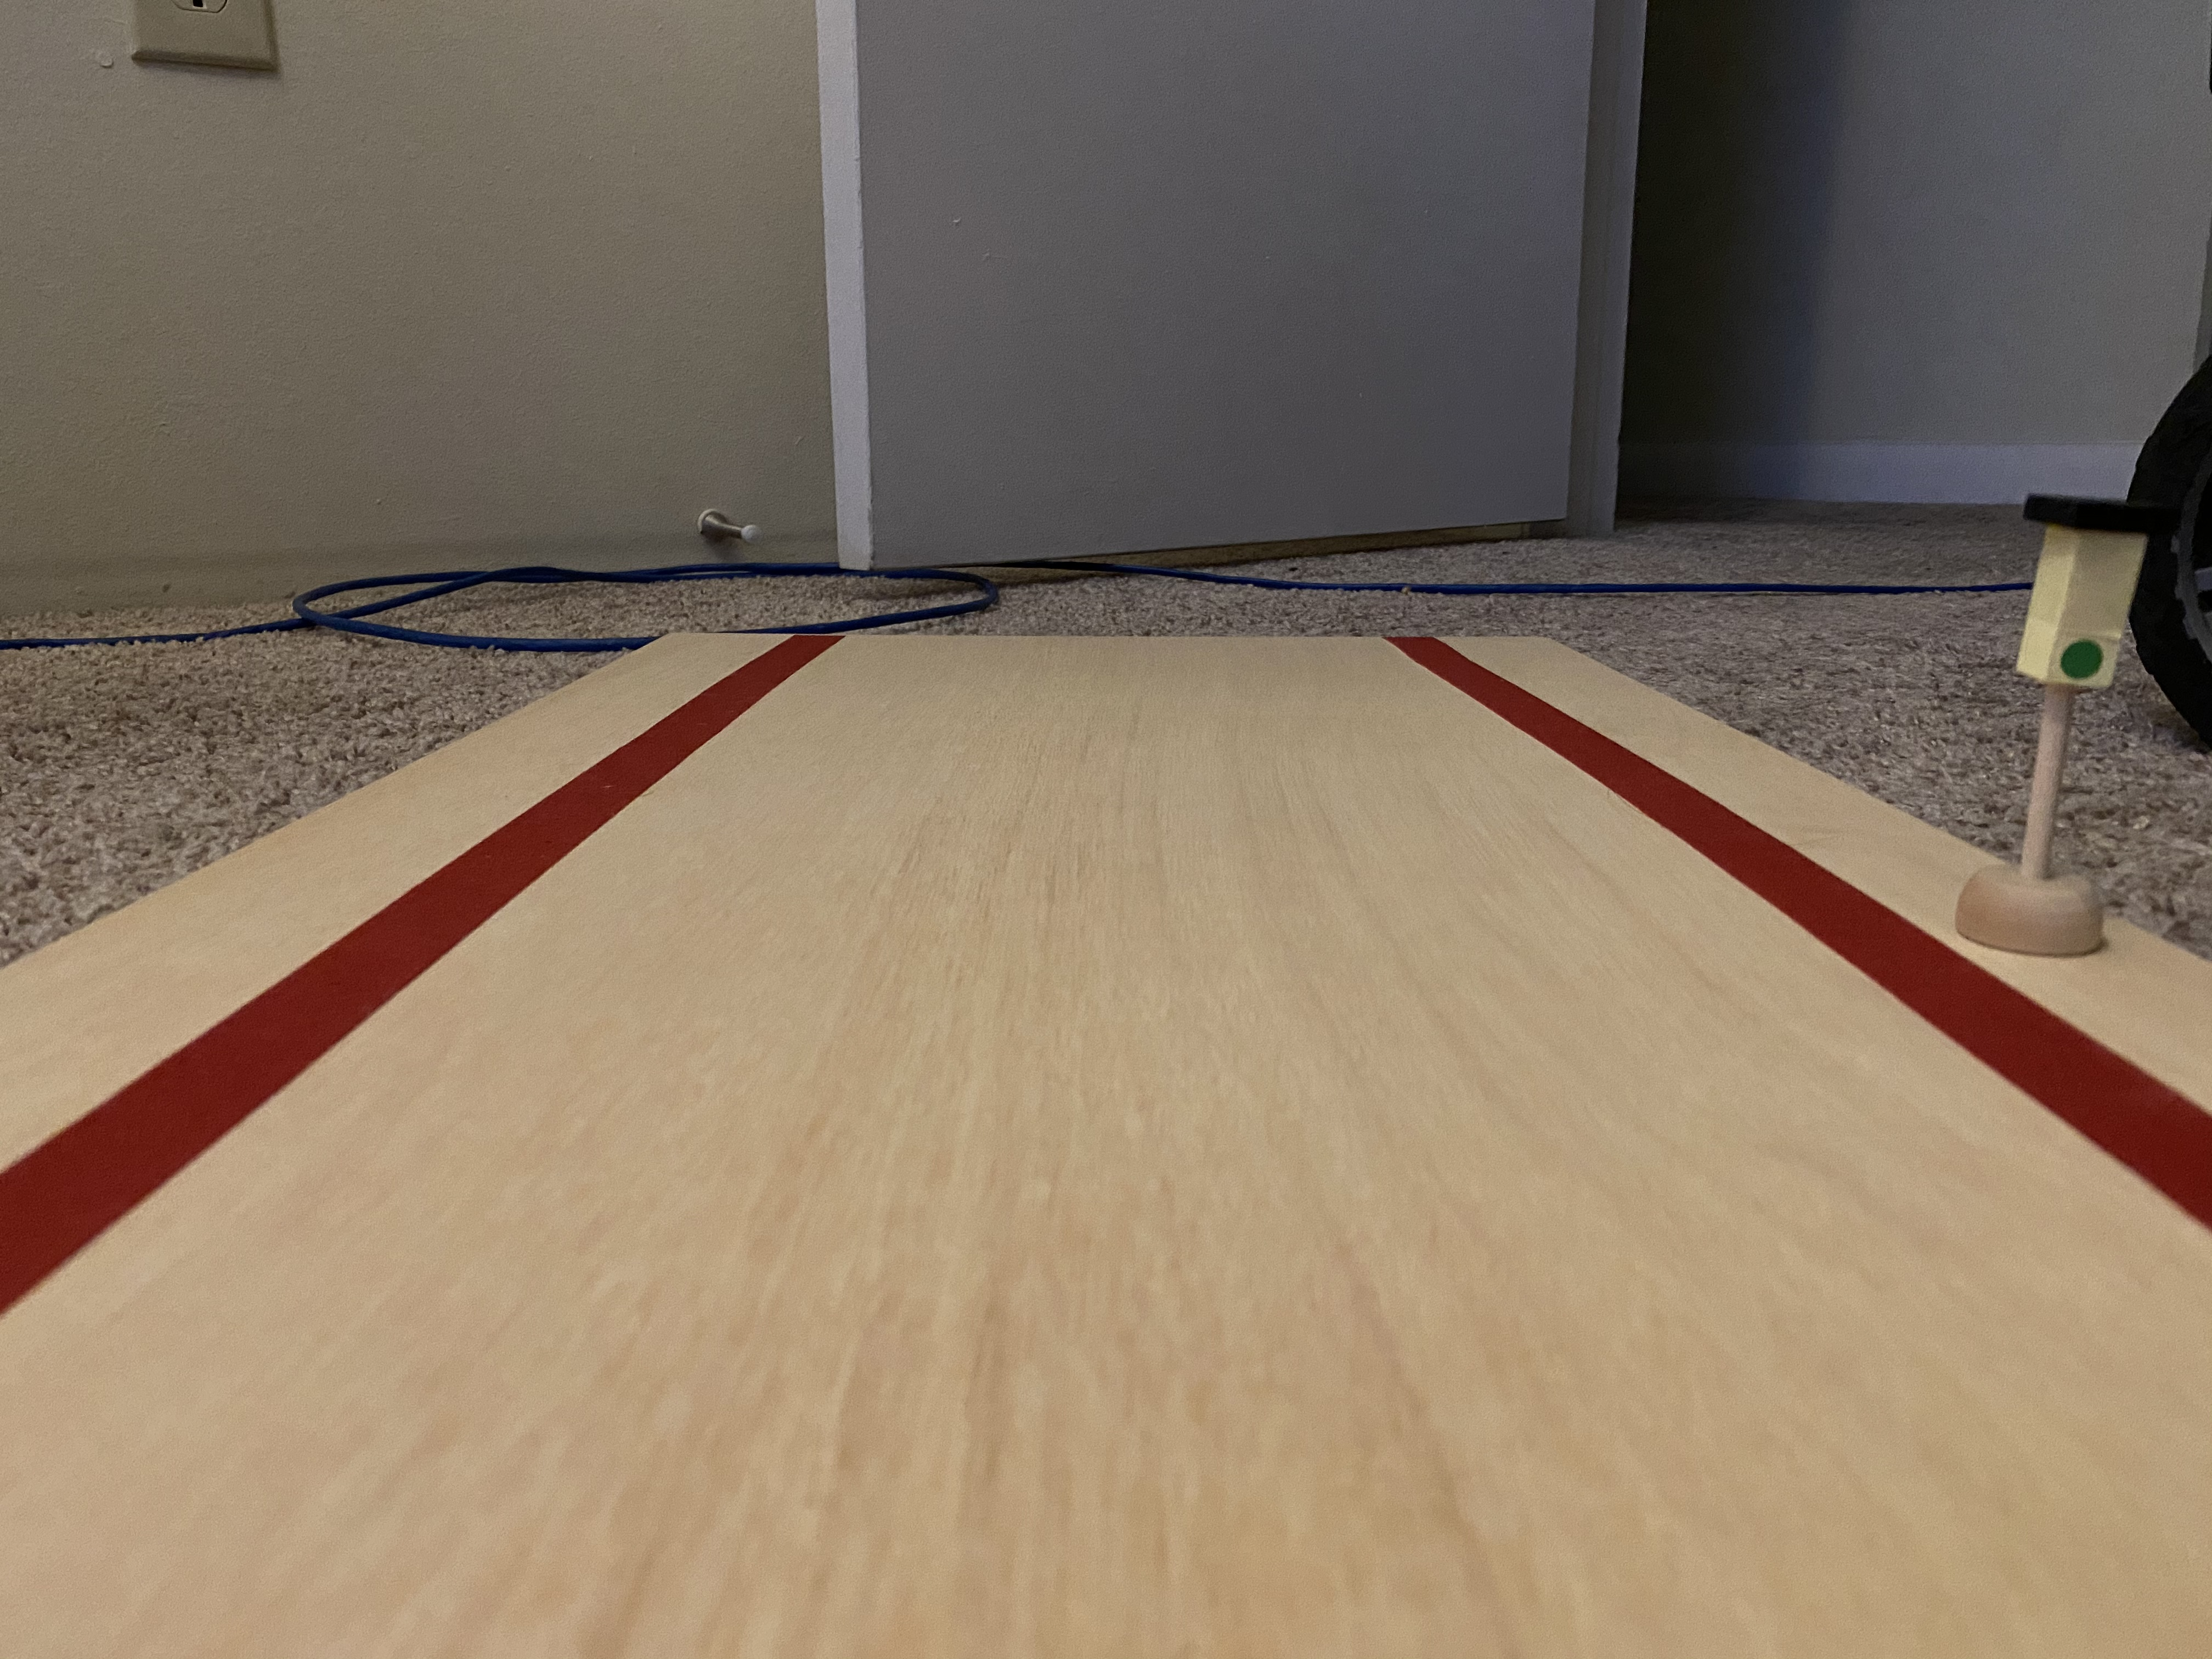Green Traffic Light: (1979, 477, 2175, 711)
